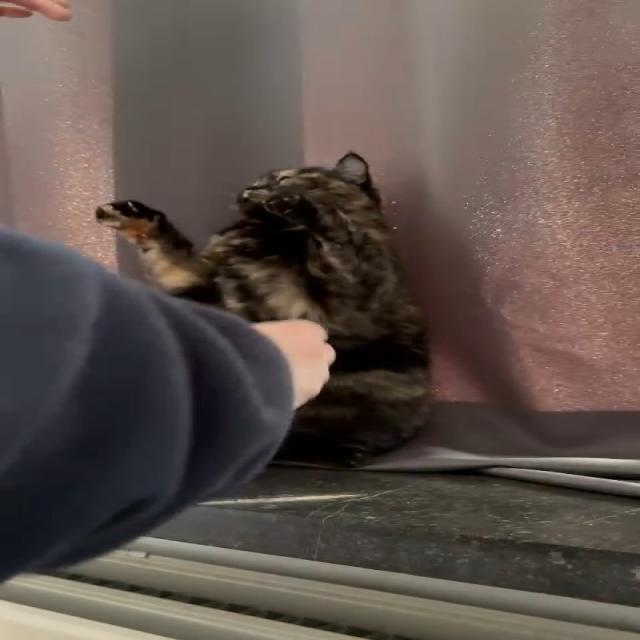authorized: (92, 150, 435, 469)
